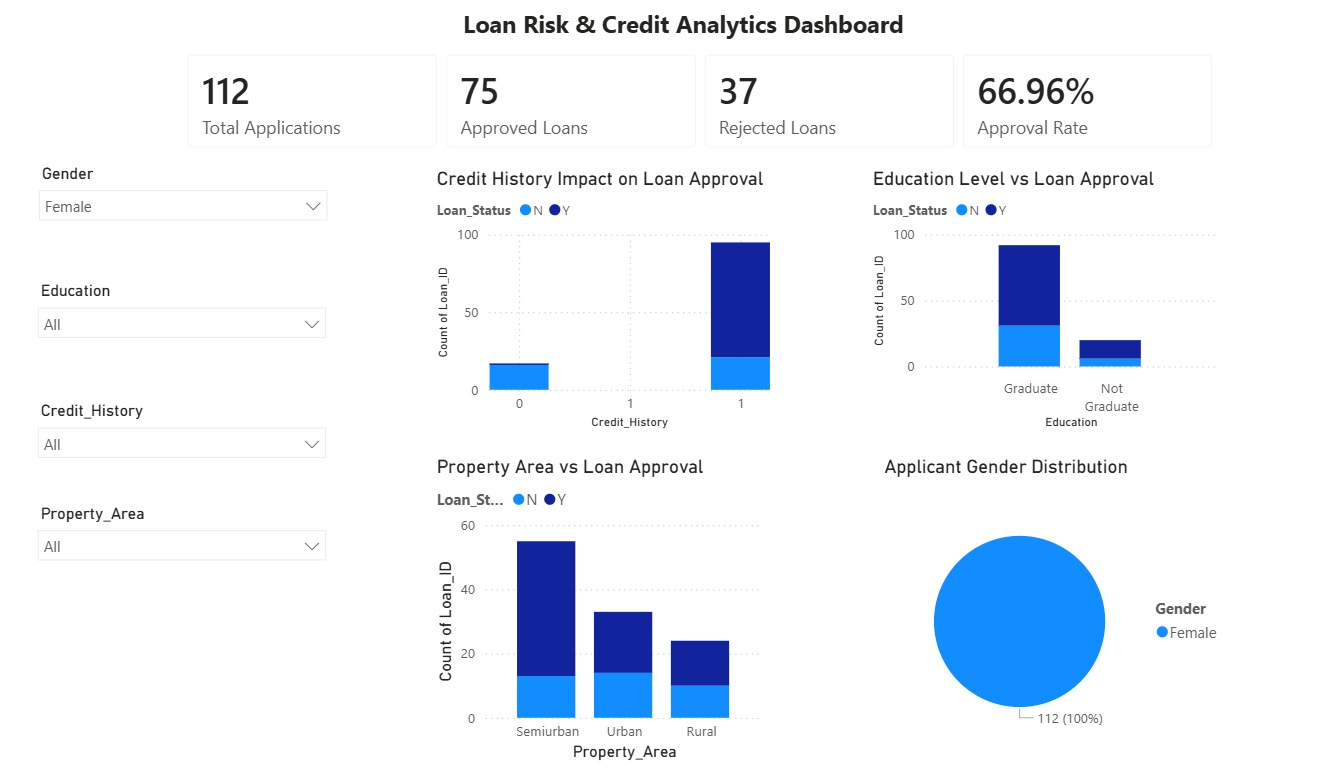

The dashboard page shown, as its layout file describes it:
{"tool":"powerbi","page":{"name":"Page 1","canvas":[1280,720],"ordinal":0},"visuals":[{"type":"cardVisual","fields":{"Data":["cleaned_loan_data.Total Applications","cleaned_loan_data.Approved Loans","cleaned_loan_data.Rejected Loans","cleaned_loan_data.Approval Rate"]},"box":[170,44,961.1,118.6],"z":0},{"type":"columnChart","title":"Credit History Impact on Loan Approval","fields":{"Category":["cleaned_loan_data.Credit_History"],"Y":["CountNonNull(cleaned_loan_data.Loan_ID)"],"Series":["cleaned_loan_data.Loan_Status"]},"box":[407.2,162.6,310.6,240.9],"z":1000},{"type":"columnChart","title":"Education Level vs Loan Approval","fields":{"Category":["cleaned_loan_data.Education"],"Y":["CountNonNull(cleaned_loan_data.Loan_ID)"],"Series":["cleaned_loan_data.Loan_Status"]},"box":[799.7,162.6,320.4,240.9],"z":2000},{"type":"columnChart","title":"Property Area vs Loan Approval","fields":{"Category":["cleaned_loan_data.Property_Area"],"Y":["CountNonNull(cleaned_loan_data.Loan_ID)"],"Series":["cleaned_loan_data.Loan_Status"]},"box":[407.2,423.1,304.5,280],"z":3000},{"type":"pieChart","title":"Applicant Gender Distribution","fields":{"Category":["cleaned_loan_data.Gender"],"Y":["CountNonNull(cleaned_loan_data.Loan_ID)"]},"box":[810.7,423.1,320.4,280],"z":4000},{"type":"slicer","fields":{"Values":["cleaned_loan_data.Gender"]},"box":[42.8,154.1,280,70.9],"z":5000},{"type":"slicer","fields":{"Values":["cleaned_loan_data.Education"]},"box":[41.6,260.5,280,70.9],"z":6000},{"type":"slicer","fields":{"Values":["cleaned_loan_data.Property_Area"]},"box":[41.6,461,280,70.9],"z":7000},{"type":"slicer","fields":{"Values":["cleaned_loan_data.Credit_History"]},"box":[41.6,368.1,280,70.9],"z":8000},{"type":"textbox","box":[1130,163,150,241],"z":10000},{"type":"textbox","box":[430.4,13.5,440.2,40.4],"z":10001}]}

Visuals, with their boxes on the page's 1280x720 design canvas (x1, y1, x2, y2). These are canvas units, not pixel positions in the 1325x782 screenshot, which may show the page scaled, cropped or inside an application window:
cardVisual - cleaned_loan_data.Total Applications x cleaned_loan_data.Approved Loans: 170, 44, 1131, 163
"Credit History Impact on Loan Approval" columnChart: 407, 163, 718, 404
"Education Level vs Loan Approval" columnChart: 800, 163, 1120, 404
"Property Area vs Loan Approval" columnChart: 407, 423, 712, 703
"Applicant Gender Distribution" pieChart: 811, 423, 1131, 703
slicer - cleaned_loan_data.Gender: 43, 154, 323, 225
slicer - cleaned_loan_data.Education: 42, 260, 322, 331
slicer - cleaned_loan_data.Property_Area: 42, 461, 322, 532
slicer - cleaned_loan_data.Credit_History: 42, 368, 322, 439
textbox: 1130, 163, 1280, 404
textbox: 430, 14, 871, 54
